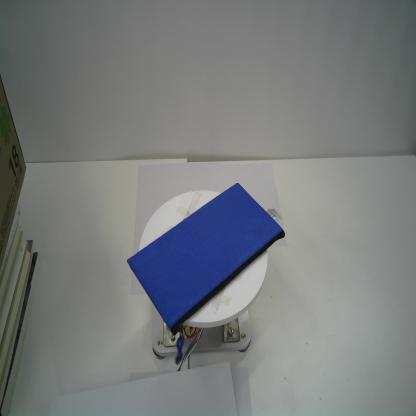Stationery: (124, 179, 288, 367)
